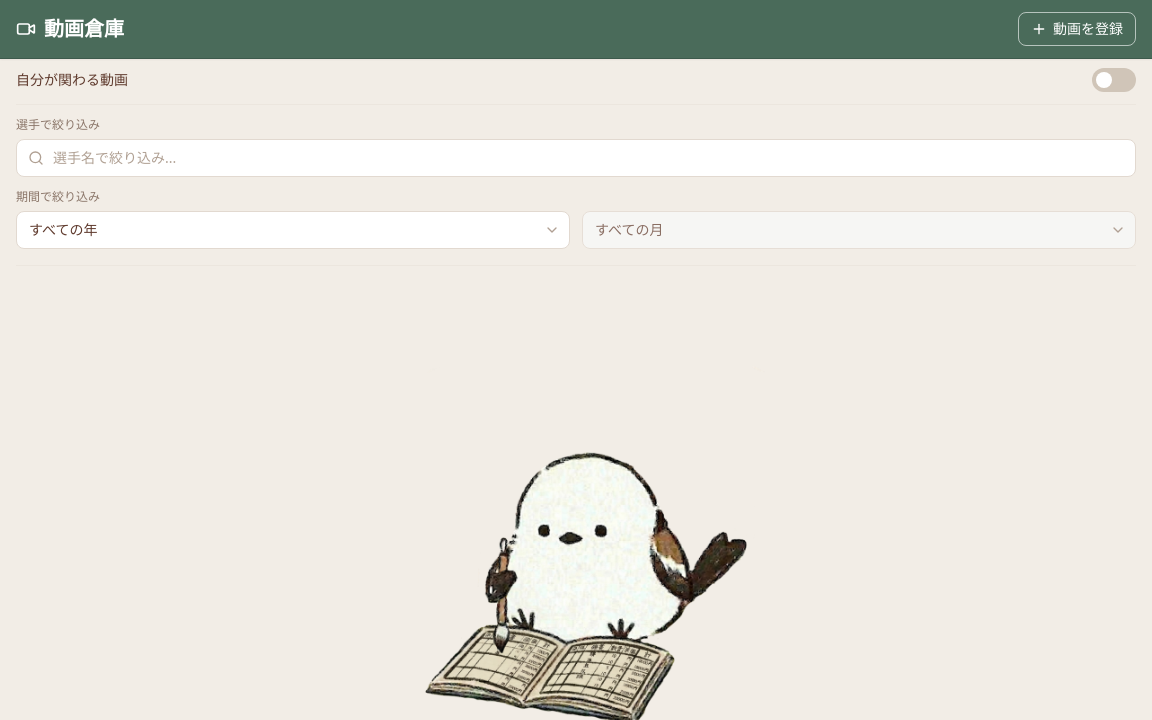
Test: VideoLibrary - 検索条件変更時の取得競合 › 検索条件を変更すると新条件の取得が走り、抑止されない（旧 fetchingRef の即 return が無い）
The width and height of the screenshot is (1152, 720).
初回が未解決（進行中）のまま「自分が関わる動画」トグルで条件変更
What coordinates should you click on to do the following:
click the button "自分が関わる動画"
I would click on:
 (72, 80)
Its box is [16,68,1136,105].
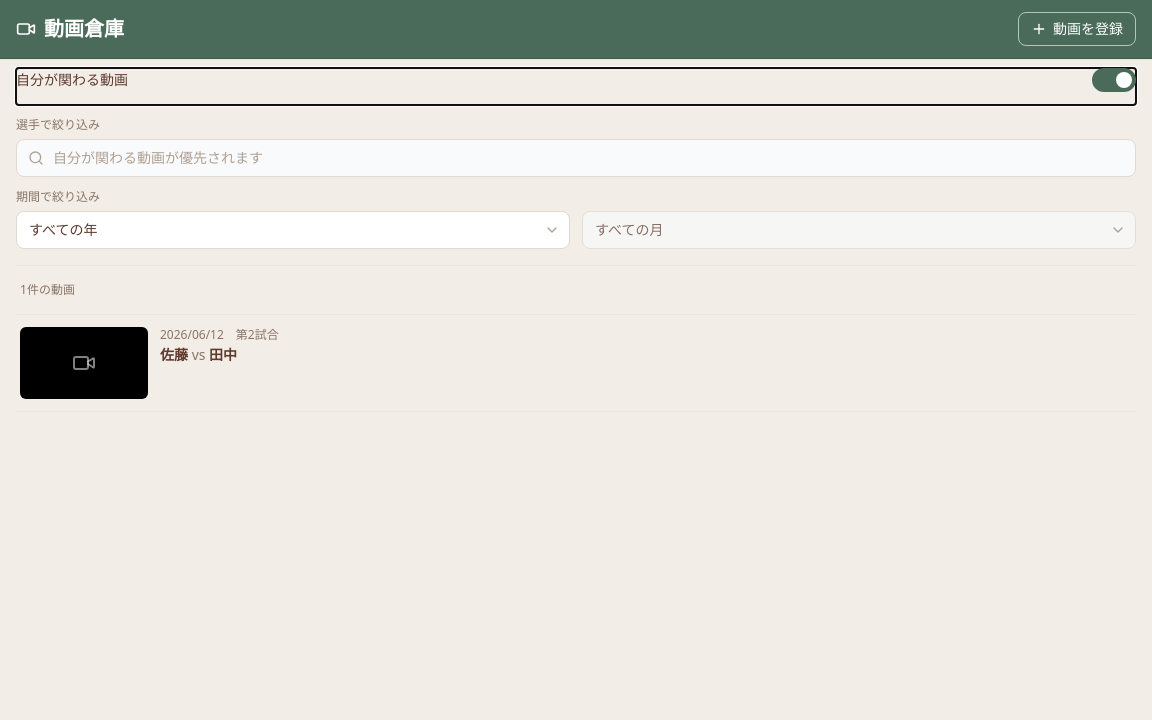
Now the text "佐藤 vs 田中" is shown, box [160,345,237,364]
